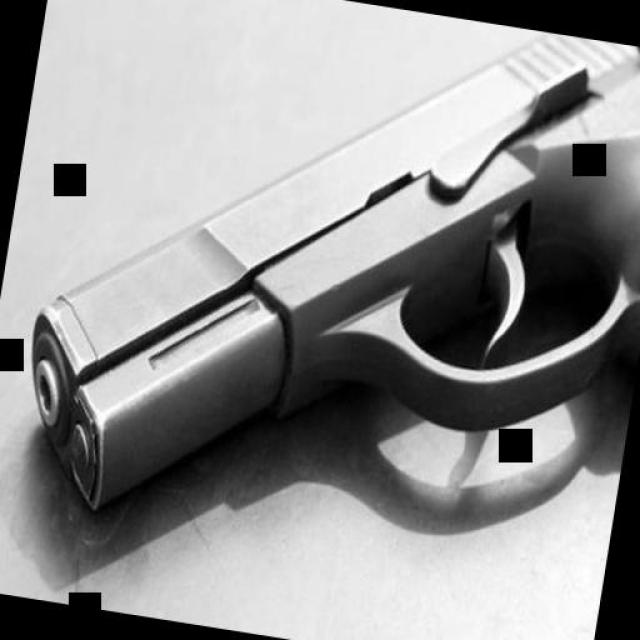gun: (2, 0, 640, 588)
